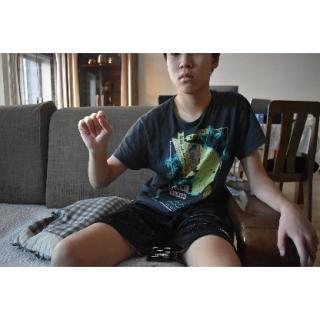FAA: (77, 105, 113, 152)
